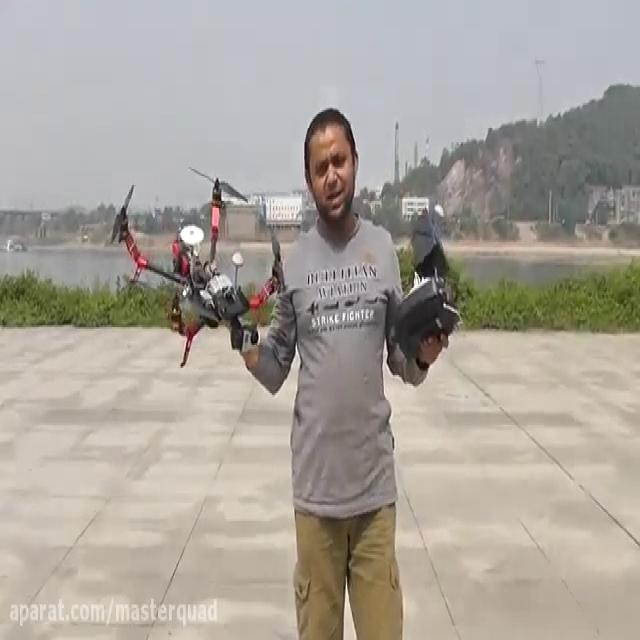drone: (107, 165, 285, 370)
